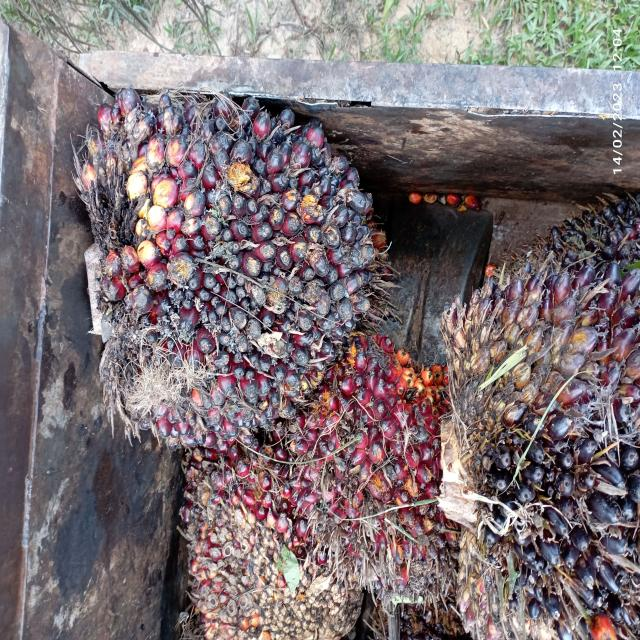fraksi 00: (64, 56, 391, 479), (419, 213, 640, 621)
fraksi 1: (246, 306, 476, 599)
